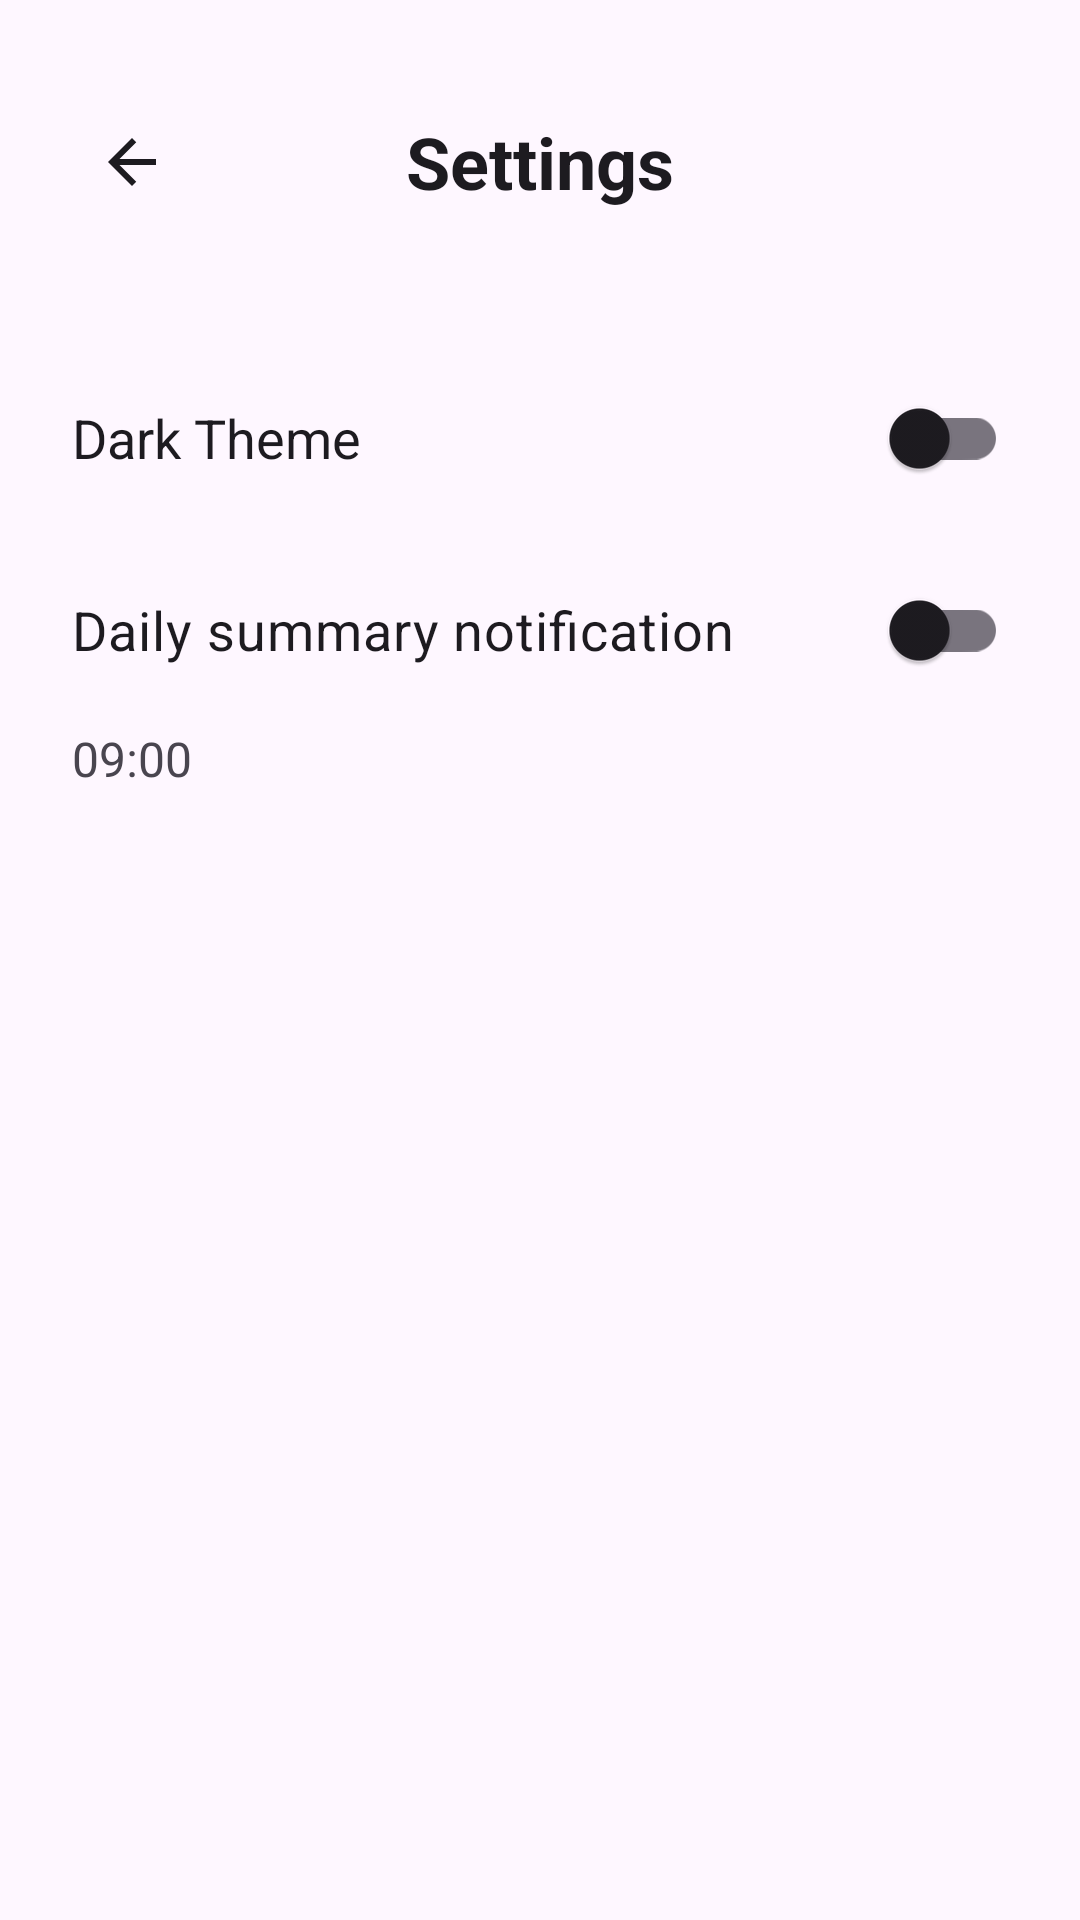

Where to tap for icons on this 1080×1920 app screen, as point (x, y):
Back: point (132, 162)
